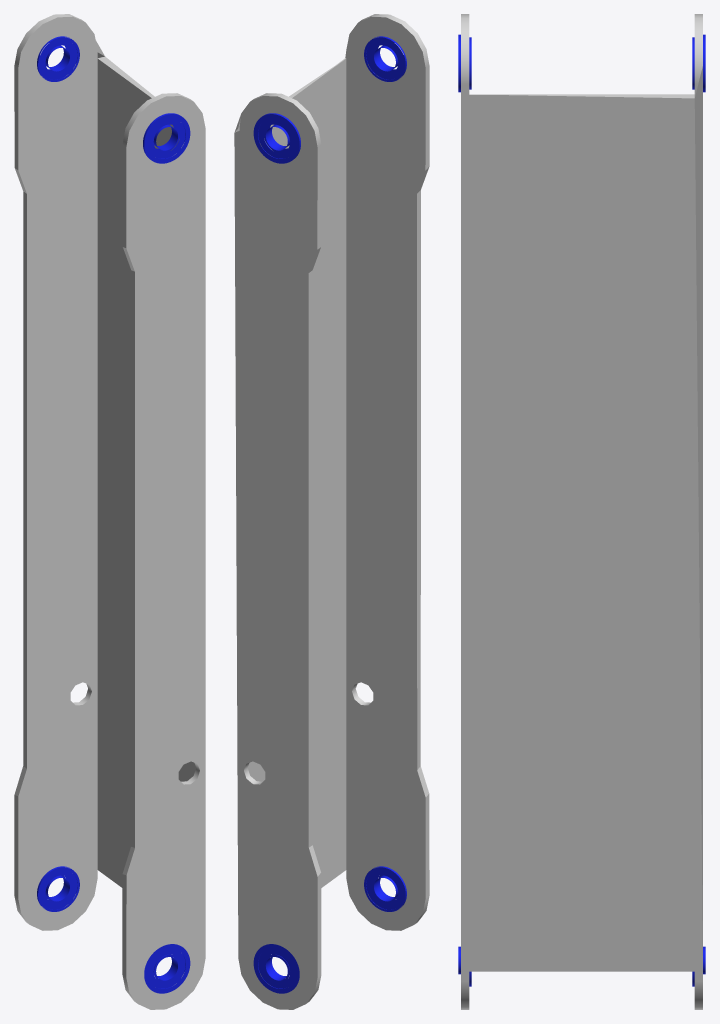
File: lifter_bone_dummy.dae
The picture shows the model from 3 angles, left to right: view 1: azimuth 30°, elevation 25°; view 2: azimuth 150°, elevation 25°; view 3: azimuth 270°, elevation 25°; orthographic projection. The views are drawn at different scales.
Parts seen in each view (by area): view 1: サーフェス1, サーフェス1_ncl1_14, サーフェス1_ncl1_20, サーフェス1_ncl1_2, サーフェス1_ncl1_9, サーフェス1_ncl1_16, サーフェス1_ncl1_22; view 2: サーフェス1, サーフェス1_ncl1_8, サーフェス1_ncl1_1, サーフェス1_ncl1_21, サーフェス1_ncl1_15, サーフェス1_ncl1_10, サーフェス1_ncl1_3; view 3: サーフェス1.
Part boxes in pixels (left/top/right/bottom): サーフェス1: left=14, top=14, right=205, bottom=1009; サーフェス1_ncl1_14: left=143, top=113, right=190, bottom=163; サーフェス1_ncl1_20: left=144, top=944, right=190, bottom=993; サーフェス1_ncl1_2: left=40, top=869, right=77, bottom=909; サーフェス1_ncl1_9: left=40, top=39, right=77, bottom=79; サーフェス1_ncl1_16: left=148, top=119, right=185, bottom=158; サーフェス1_ncl1_22: left=148, top=948, right=185, bottom=988; サーフェス1: left=234, top=14, right=429, bottom=1009; サーフェス1_ncl1_8: left=253, top=113, right=300, bottom=163; サーフェス1_ncl1_1: left=253, top=944, right=299, bottom=993; サーフェス1_ncl1_21: left=366, top=869, right=403, bottom=909; サーフェス1_ncl1_15: left=366, top=39, right=403, bottom=79; サーフェス1_ncl1_10: left=258, top=119, right=295, bottom=158; サーフェス1_ncl1_3: left=258, top=948, right=295, bottom=988; サーフェス1: left=461, top=14, right=702, bottom=1009.
Bounding box in the file's own units: 0.0395 × 0.09 × 0.396.
